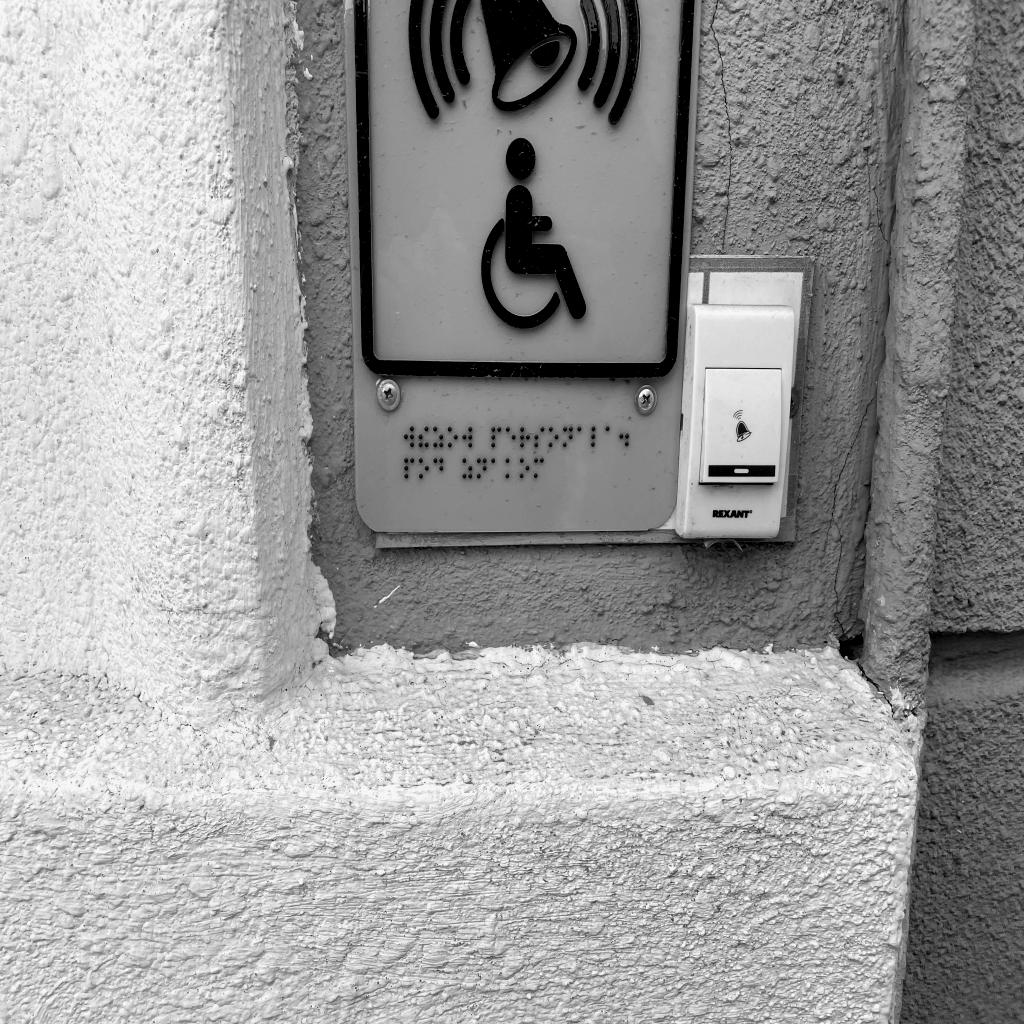_n: (562, 425, 574, 449), (476, 458, 487, 480)
a: (605, 425, 615, 448), (577, 426, 587, 448), (491, 457, 501, 478)
d: (433, 457, 444, 479)
e: (505, 426, 516, 449)
ii: (418, 425, 429, 448)
k: (505, 457, 515, 479)
l: (591, 425, 602, 448)
m: (534, 456, 545, 479)
o: (447, 425, 458, 448), (418, 457, 429, 479), (519, 457, 530, 479), (549, 426, 559, 448)
p: (403, 457, 415, 479), (491, 425, 502, 448)
r: (519, 425, 531, 449)
s: (534, 425, 545, 448)
tochka: (619, 425, 629, 447)
v: (403, 425, 415, 448), (462, 425, 473, 448)
z: (433, 426, 444, 449), (462, 457, 473, 480)
